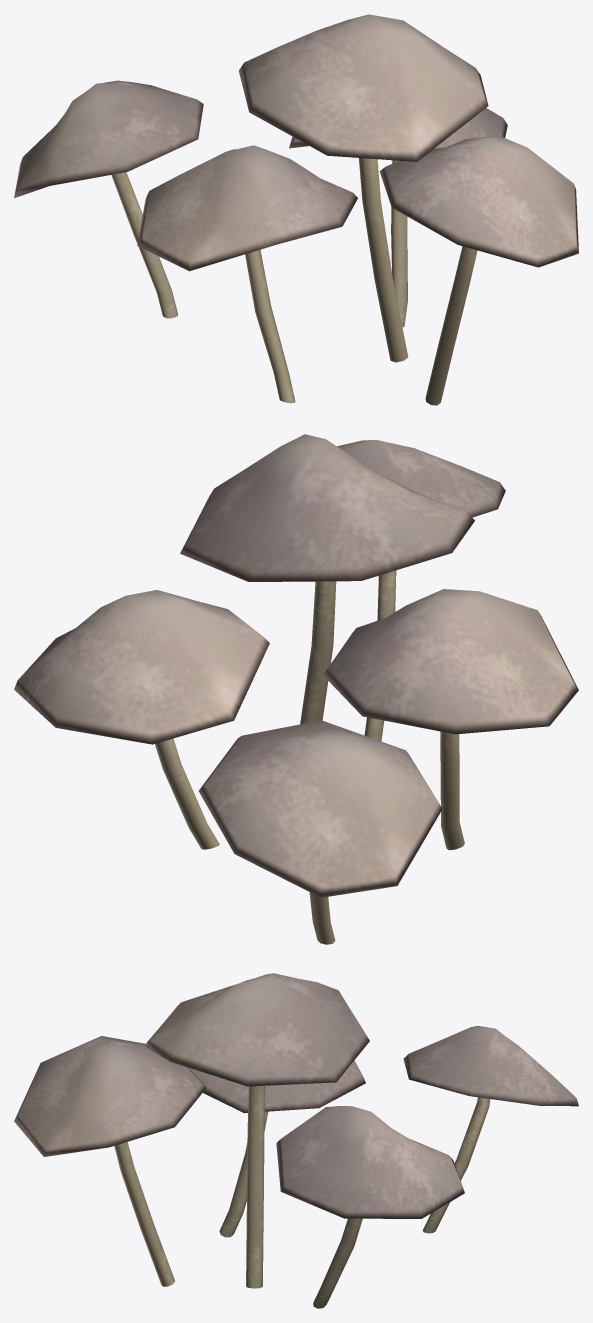
Rendered from Mushrooms.glb.
The picture shows the model from 3 angles, top to bottom: view 1: azimuth 30°, elevation 25°; view 2: azimuth 150°, elevation 25°; view 3: azimuth 270°, elevation 25°; orthographic projection. The views are drawn at different scales.
Visible parts, largest first — view 1: Mushroom_Common; view 2: Mushroom_Common; view 3: Mushroom_Common.
Boxes of the visible parts, x1=… form: Mushroom_Common: x1=14, y1=14, x2=578, y2=405; Mushroom_Common: x1=14, y1=434, x2=578, y2=944; Mushroom_Common: x1=14, y1=973, x2=578, y2=1308.
Size of the model in its own units: 0.5637 by 0.4635 by 0.7791.
Materials: 1 (1 with a texture image).
